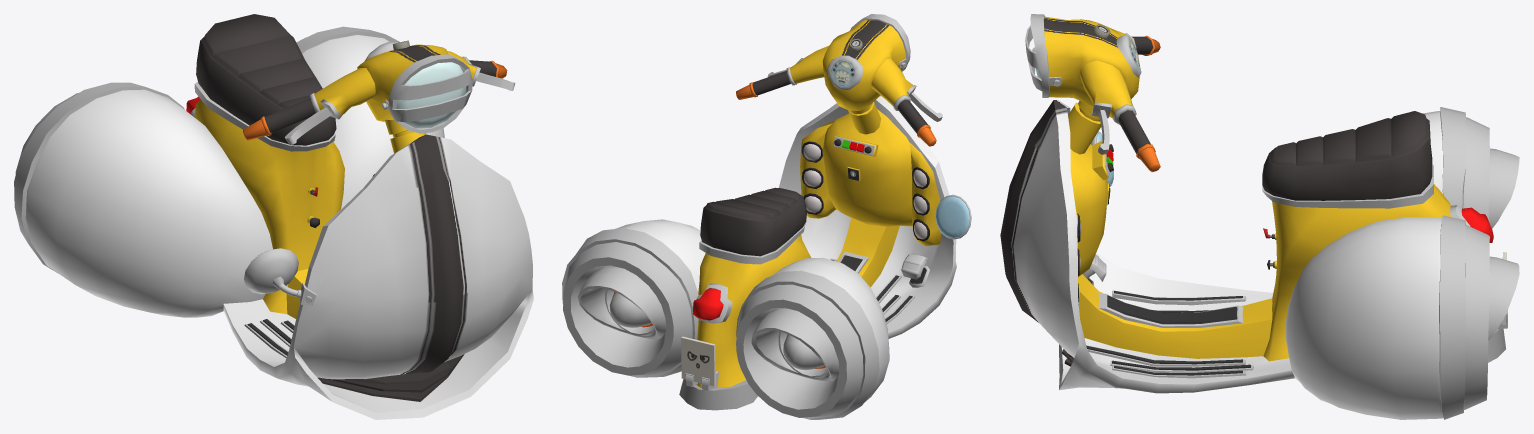
File: MOTOF_Prueba1.FBX
3 views of the same model, side by side, from view 1: azimuth 30°, elevation 25°; view 2: azimuth 150°, elevation 25°; view 3: azimuth 270°, elevation 25° (orthographic). The views are drawn at different scales.
Visible parts, largest first — view 1: RETOPO CUERPO, RETOPO LUZ; view 2: RETOPO CUERPO, RETOPO LUZ; view 3: RETOPO CUERPO, RETOPO LUZ.
Part boxes in pixels (x1,y1,x2,y2): RETOPO CUERPO: (14,14,533,419); RETOPO LUZ: (186,62,466,128); RETOPO CUERPO: (562,14,971,419); RETOPO LUZ: (693,288,723,320); RETOPO CUERPO: (1000,14,1519,419); RETOPO LUZ: (1036,69,1493,242).
Size of the model in its own units: 62.94 by 54.3 by 71.03.
2 materials, 2 textured.
